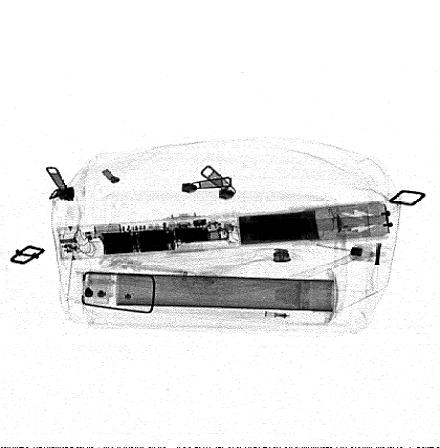Baton: (55, 200, 393, 261)
